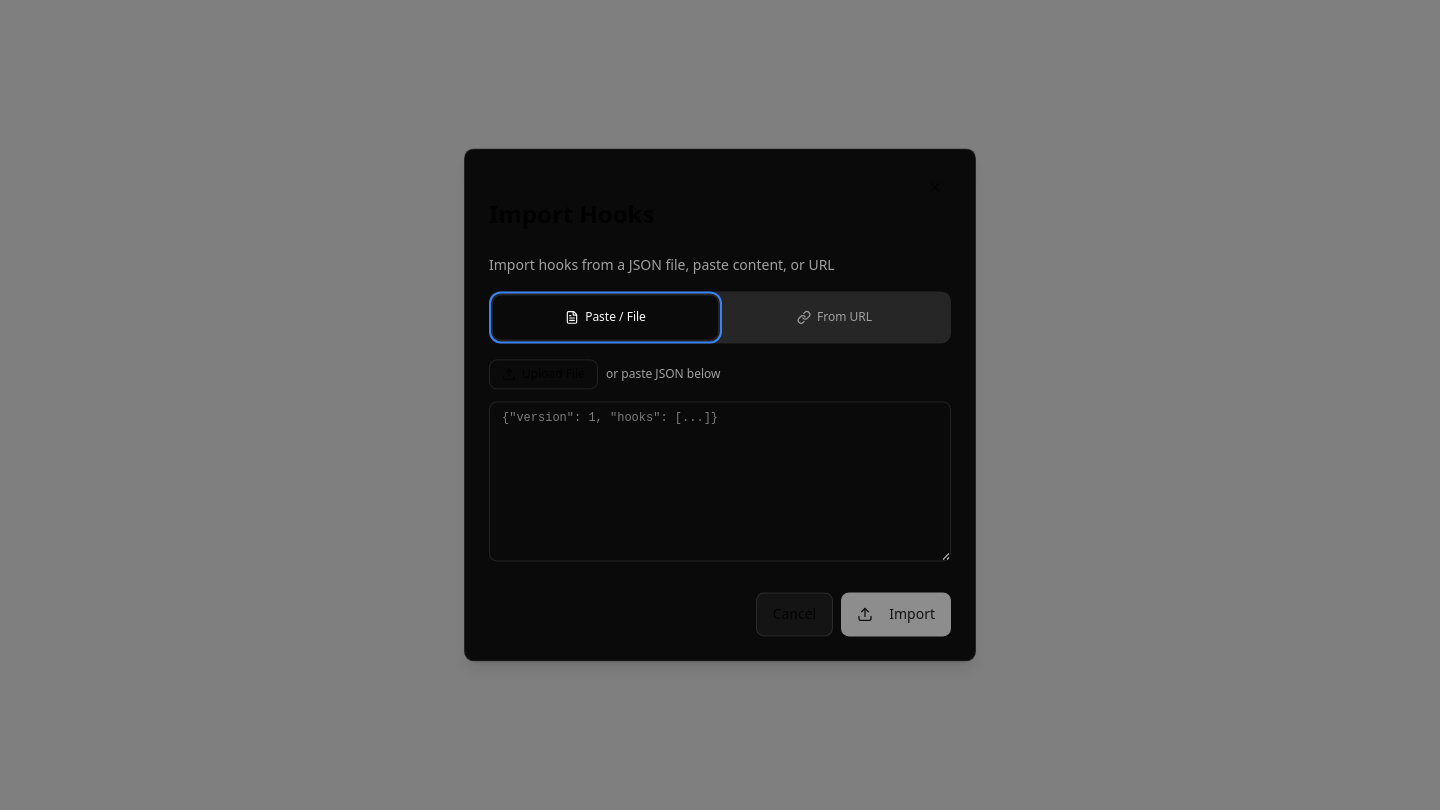
Test: HookImportDialog › should switch to URL mode
The image size is (1440, 810).
Click the button "From URL" at (834, 317), box [722,295,947,339]
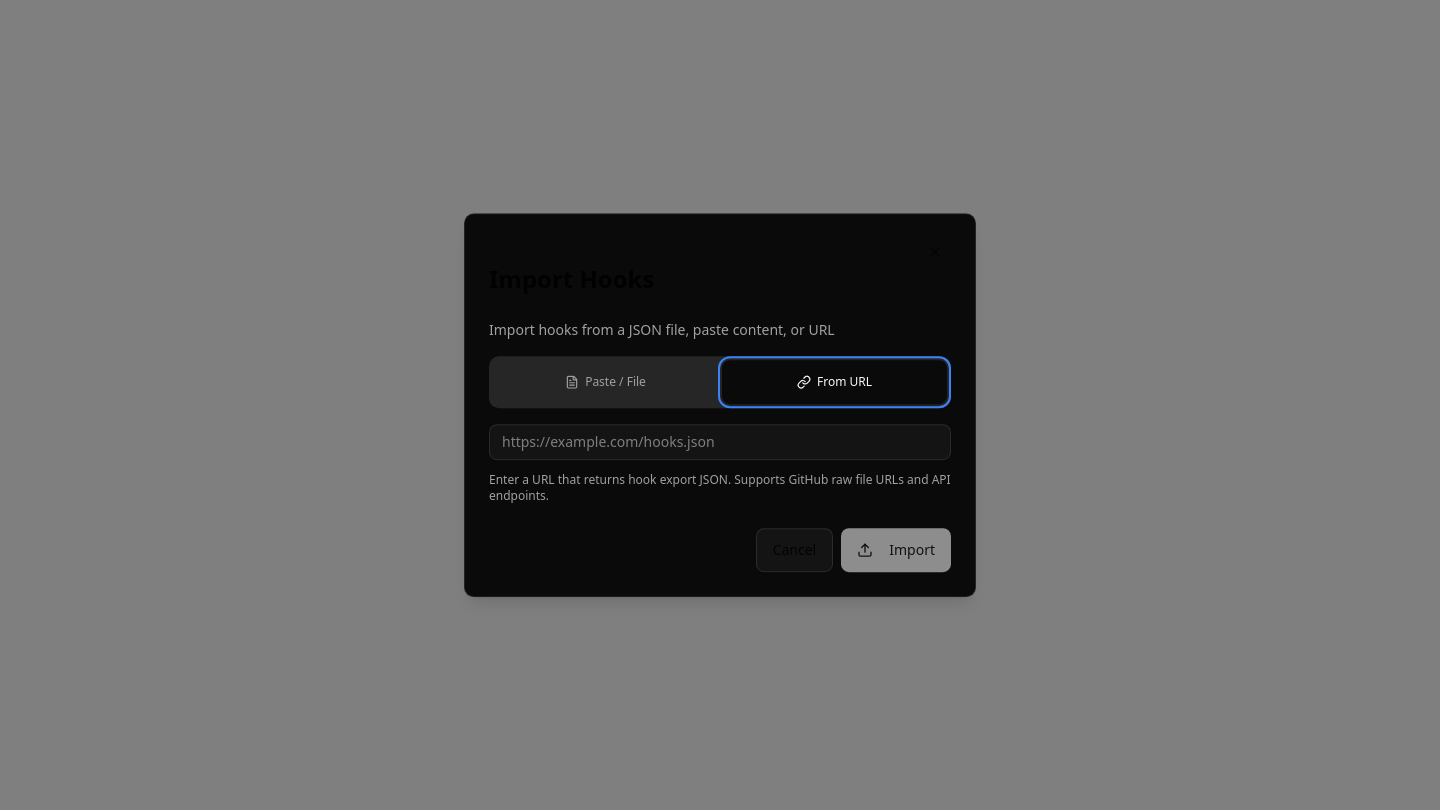
Now the field named "Hook source URL" is shown, box [489,424,951,460]
